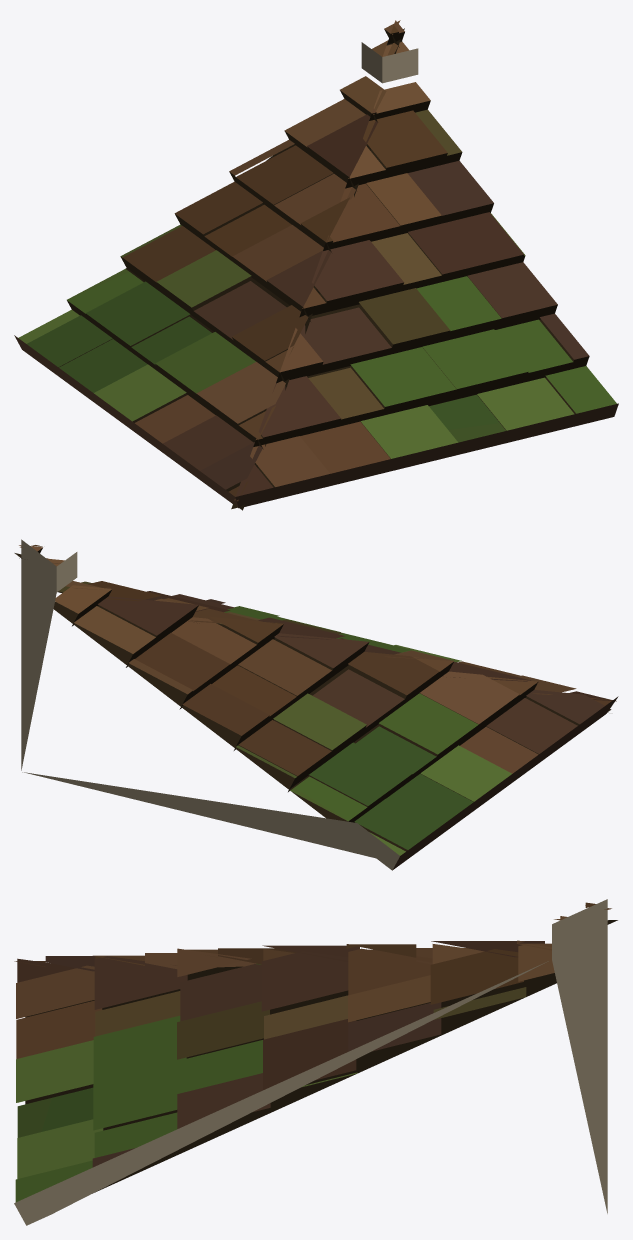
File: roof-corner-mossy.glb
3 views of the same model, one above another, from view 1: azimuth 30°, elevation 25°; view 2: azimuth 150°, elevation 25°; view 3: azimuth 270°, elevation 25° (orthographic). The views are drawn at different scales.
Visible parts, largest first — view 1: roof-corner-mossy; view 2: roof-corner-mossy; view 3: roof-corner-mossy.
Boxes of the visible parts, bbox=[...] form: roof-corner-mossy: bbox=[14, 20, 618, 510]; roof-corner-mossy: bbox=[14, 539, 618, 870]; roof-corner-mossy: bbox=[14, 899, 617, 1225].
Size of the model in its own units: 1.09 by 0.6483 by 1.09.
